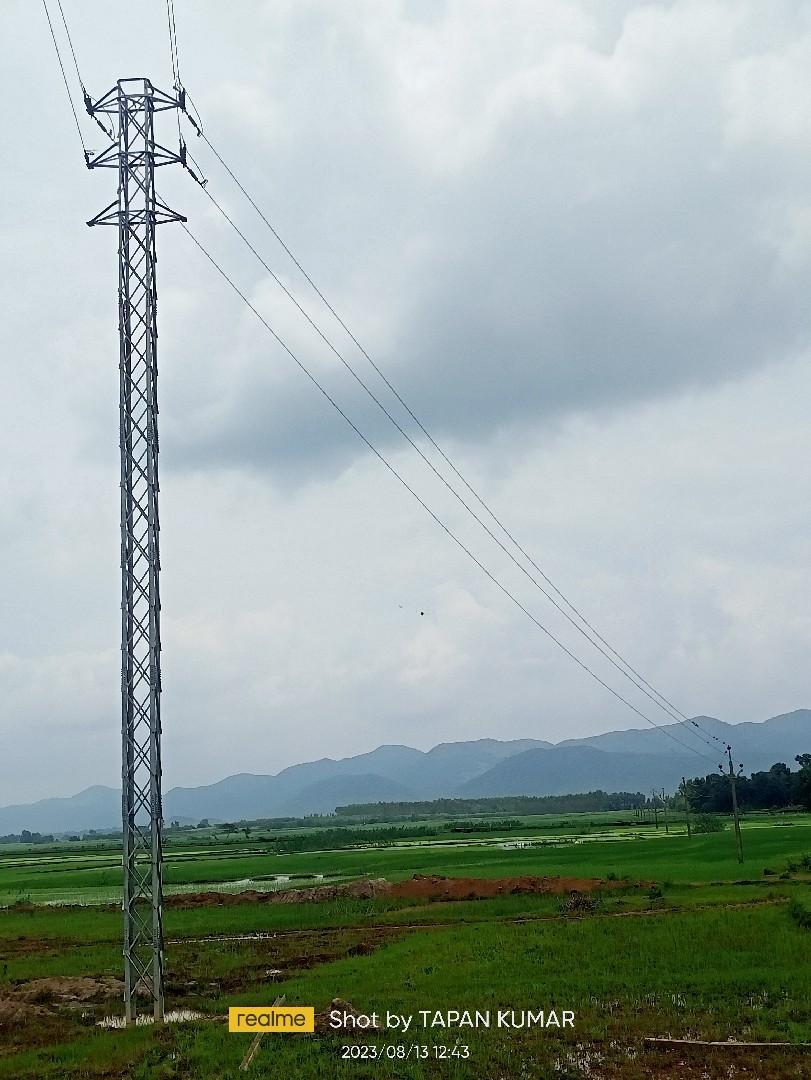Microwave Antenna: (72, 73, 197, 1006)
